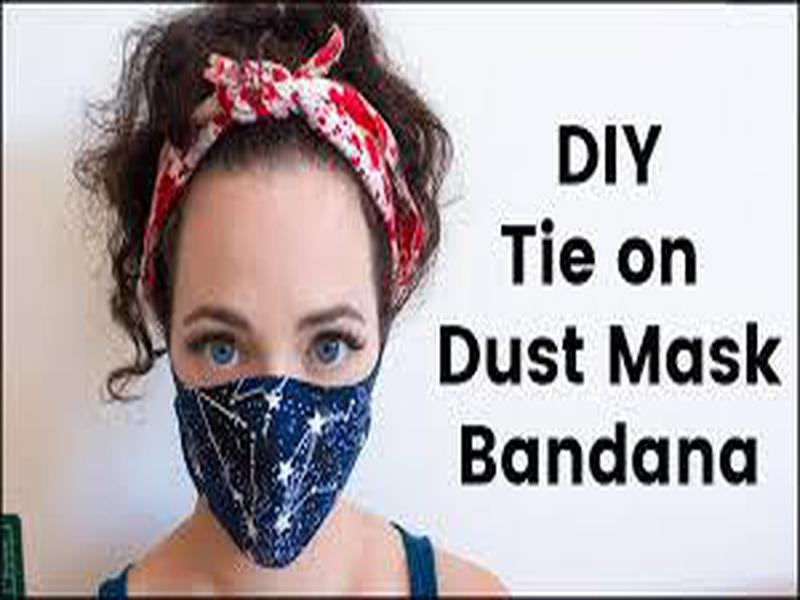with_mask: (176, 167, 378, 574)
